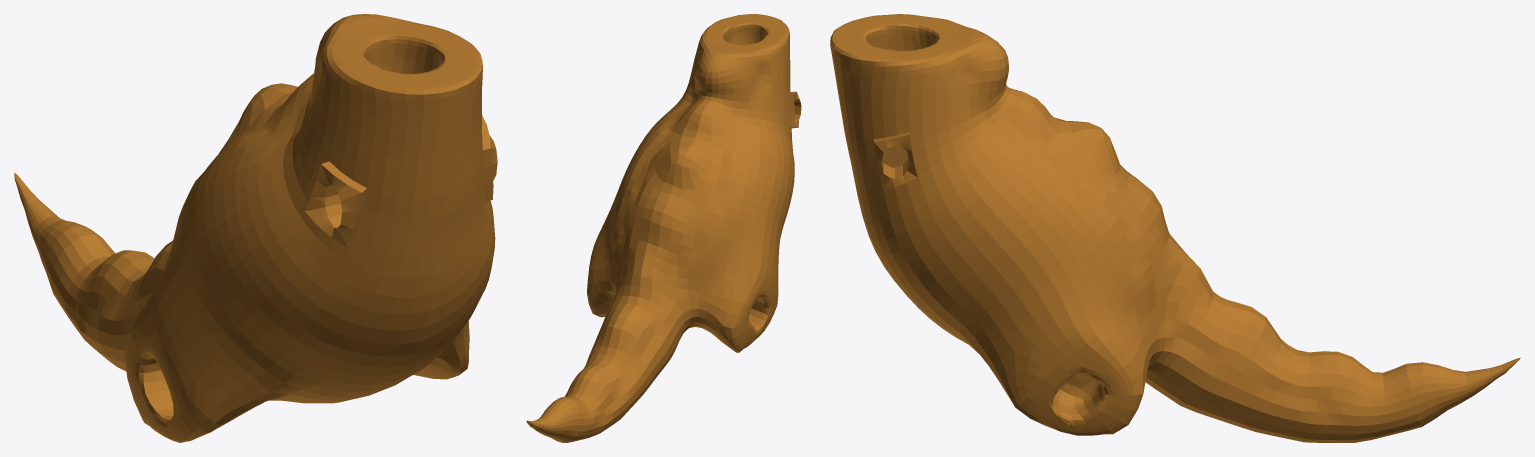
File: Dino_Torso_A.fbx
The picture shows the model from 3 angles, left to right: view 1: azimuth 30°, elevation 25°; view 2: azimuth 150°, elevation 25°; view 3: azimuth 270°, elevation 25°; orthographic projection. The views are drawn at different scales.
Parts seen in each view (by area): view 1: Dino_torso; view 2: Dino_torso; view 3: Dino_torso.
Part boxes in pixels (x1,y1,x2,y2): Dino_torso: [14, 14, 497, 442]; Dino_torso: [526, 14, 801, 442]; Dino_torso: [830, 14, 1520, 442].
Bounding box in the file's own units: 5.49 × 9.19 × 14.26.
